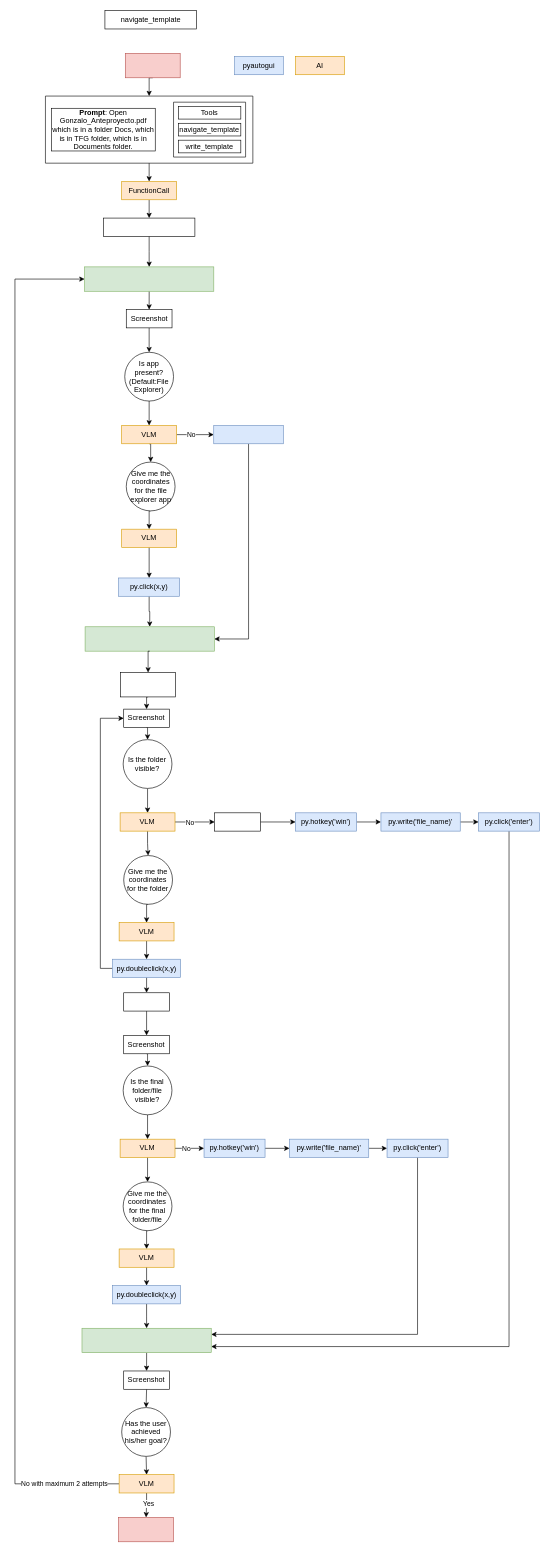
The diagram is 550 pixels wide and 1552 high, and some of its shapes have lost their labels. The box of each missing label's shape, as (x1, y1, x2, y2) in pixels:
END: (118, 1517, 174, 1542)
End loop: (123, 992, 169, 1011)
Exit loop: (214, 812, 260, 831)
Node 1: Launch app: (84, 266, 214, 291)
Node 2: Navigate: (84, 626, 214, 651)
Node 3: Verify: (81, 1328, 211, 1353)
py.hotkey('win', 'e'): (213, 425, 283, 444)
START: (125, 53, 180, 78)
Start loop for folder in path: (120, 672, 176, 697)
Tool: navigate_template: (103, 217, 195, 236)
